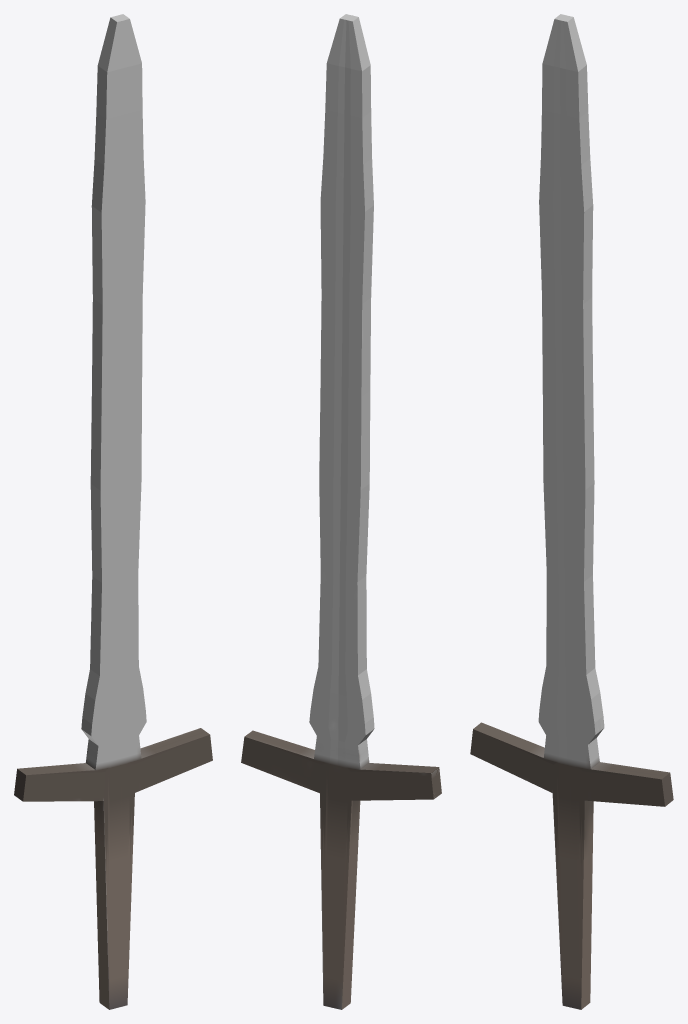
File: sword_000071.obj
3 views of the same model, side by side, from view 1: azimuth 30°, elevation 25°; view 2: azimuth 150°, elevation 25°; view 3: azimuth 330°, elevation 25° (orthographic).
Bounding box in the file's own units: 0.1419 × 0.6986 × 0.0239.
